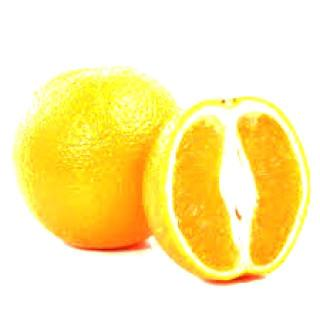orange: (3, 56, 184, 291), (148, 76, 320, 292)
